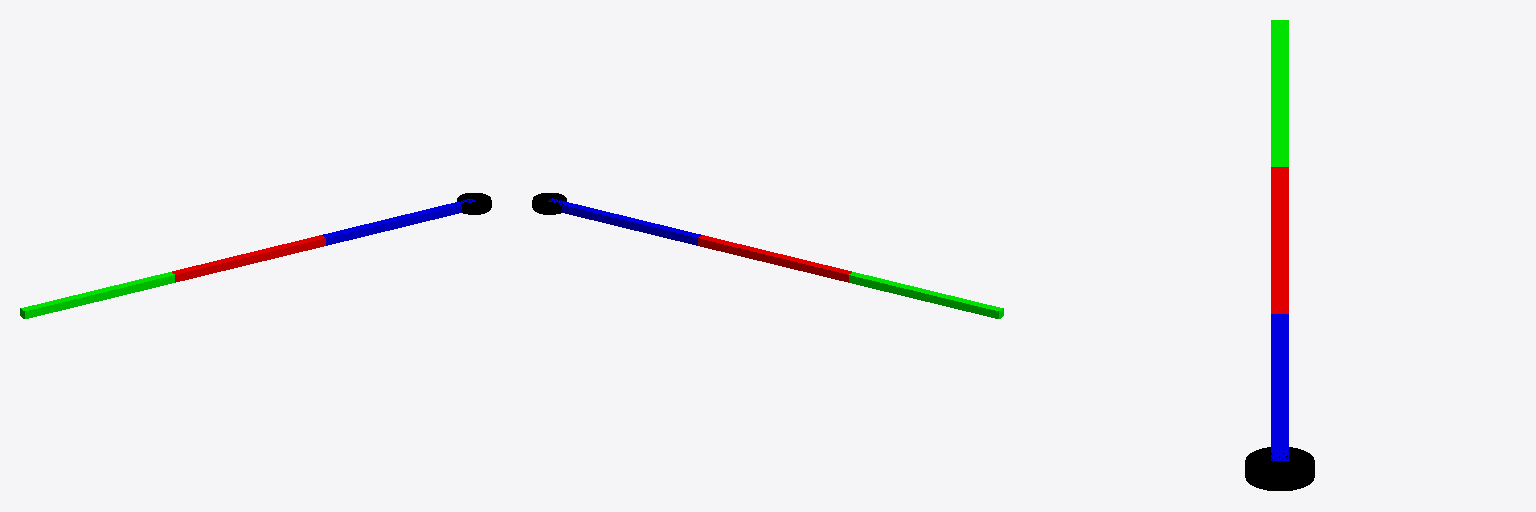
URDF robot description (box2D):
<robot name="box2D">
    
  <link name="baselink">
    <inertial>
      <origin rpy="0 0 0" xyz="0 0 0"/>
       <mass value="0"/>
       <inertia ixx="0" ixy="0" ixz="0" iyy="0" iyz="0" izz="0"/>
    </inertial>
  </link>

  <link name="link1">
    <inertial>
      <origin rpy="0 0 0" xyz="1.0 0 0"/>
       <mass value="0.5"/>
       <inertia ixx="0.0001" ixy="0" ixz="0" iyy="0.0001" iyz="0" izz="0.0001"/>
    </inertial>

    <visual>
      <origin rpy="0 0 0" xyz="1.0 0 0"/>
      <geometry>
        <box size="2 0.1 0.1" />      
      </geometry>     
      <material name="green">
        <color rgba="0 1 0 1"/>
      </material>
    </visual>
    
    <collision>
      <origin rpy="0 0 0" xyz="1.0 0 0"/>
      <geometry>
        <box size="2 0.1 0.1" />      
      </geometry>
    </collision>
  </link>


  <link name="link2">
    <inertial>
      <origin rpy="0 0 0" xyz="1.0 0 0"/>
       <mass value="0.5"/>
       <inertia ixx="0.0001" ixy="0" ixz="0" iyy="0.0001" iyz="0" izz="0.0001"/>
    </inertial>

    <visual>
      <origin rpy="0 0 0" xyz="1.0 0 0"/>
      <geometry>
        <box size="2 0.1 0.1" />      
      </geometry>
      <material name="red">
        <color rgba="1 0 0 1"/>
      </material>
    </visual>
    
    <collision>
      <origin rpy="0 0 0" xyz="1.0 0 0"/>
      <geometry>
        <box size="2 0.1 0.1" />      
      </geometry>
    </collision>
  </link>


  <link name="link3">
    <inertial>
      <origin rpy="0 0 0" xyz="1.0 0 0"/>
       <mass value="0.5"/>
       <inertia ixx="0.0001" ixy="0" ixz="0" iyy="0.0001" iyz="0" izz="0.0001"/>
    </inertial>

    <visual>
      <origin rpy="0 0 0" xyz="1.0 0 0"/>
      <geometry>
        <box size="2 0.1 0.1" />      
      </geometry>
      <material name="blue">
        <color rgba="0 0 1 1"/>
      </material>
    </visual>
    
    <collision>
      <origin rpy="0 0 0" xyz="1.0 0 0"/>
      <geometry>
        <box size="2 0.1 0.1" />      
      </geometry>
    </collision>
  </link>



  <link name="link4">
    <inertial>
      <origin rpy="0 0 0" xyz="0 0 0"/>
       <mass value="0.5"/>
       <inertia ixx="0.0001" ixy="0" ixz="0" iyy="0.0001" iyz="0" izz="0.0001"/>
    </inertial>

    <visual>
      <origin rpy="0 0 0" xyz="0 0 0"/>
      <geometry>
        <cylinder radius="0.2" length="0.1"/>
      </geometry>
      <material name="black">
        <color rgba="0 0 0 1"/>
      </material>
    </visual>
    
    <collision>
      <origin rpy="0 0 0" xyz="0 0 0"/>
      <geometry>
        <cylinder radius="0.2" length="0.1"/>
      </geometry>
    </collision>
  </link>


  <joint name = "joint1" type = "revolute">
    <origin xyz = "0.0 0.0 0.0" rpy = "0 0 0"/> 
    <parent link = "baselink" />
    <child link= "link1"/>
    <axis xyz = "0 0 1" />
    <limit effort="1.0" lower="-10000" upper="10000" velocity="10000" />
    <dynamics damping = "0.0" friction="0.0" />
  </joint>

  <joint name = "joint2" type = "revolute">
    <origin xyz = "2.0 0.0 0.0" rpy = "0 0 0"/> 
    <parent link = "link1" />
    <child link= "link2"/>
    <axis xyz = "0 0 1" />
    <limit effort="1.0" lower="-10000" upper="10000" velocity="10000" />
    <dynamics damping = "0.0" friction="0.0" />
  </joint> 

  <joint name = "joint3" type = "revolute">
    <origin xyz = "2.0 0.0 0.0" rpy = "0 0 0"/> 
    <parent link = "link2" />
    <child link= "link3"/>
    <axis xyz = "0 0 1" />
    <limit effort="1.0" lower="-10000" upper="10000" velocity="10000" />
    <dynamics damping = "0.0" friction="0.0" />
  </joint> 

  <joint name = "joint4" type = "fixed">
    <origin xyz = "2.0 0.0 0.0" rpy = "0 0 0"/> 
    <parent link = "link3" />
    <child link= "link4"/>
    <axis xyz = "0 0 1" />
    <limit effort="1.0" lower="-10000" upper="10000" velocity="10000" />
    <dynamics damping = "0.0" friction="0.0" />
  </joint> 

    
</robot>

--- Render facts (derived) ---
3 views of the same robot in one strip: view 1: azimuth 30°, elevation 25°; view 2: azimuth 150°, elevation 25°; view 3: azimuth 270°, elevation 25° (orthographic).
Model box2D with 5 links and 4 joints (3 revolute, 1 fixed), rooted at baselink, posed every joint at zero.
Visible links, largest first — view 1: link1, link2, link3, link4; view 2: link1, link2, link3, link4; view 3: link1, link2, link3, link4.
Boxes of the visible links, box(x1,y1,x2,y2) form: link1: box(20, 272, 174, 318); link2: box(172, 235, 325, 282); link3: box(322, 199, 475, 245); link4: box(457, 193, 491, 214); link1: box(849, 272, 1003, 318); link2: box(698, 235, 851, 282); link3: box(548, 198, 701, 245); link4: box(532, 193, 566, 214); link1: box(1271, 20, 1288, 166); link2: box(1271, 167, 1288, 313); link3: box(1271, 314, 1288, 460); link4: box(1245, 447, 1314, 490).
Bounding box of the posed robot: 6.2 × 0.4 × 0.1 m (x, y, z).
Geometry: primitives only (box / cylinder / sphere), no mesh files.
